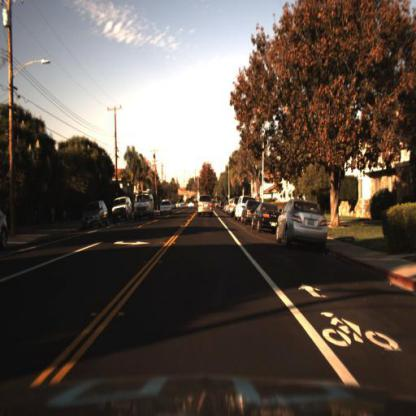car: (277, 198, 331, 258), (77, 199, 111, 233), (78, 201, 110, 236), (250, 198, 277, 238), (252, 201, 282, 232), (111, 194, 133, 230), (133, 189, 156, 223), (195, 190, 214, 221), (159, 197, 173, 219), (241, 199, 251, 225), (235, 199, 244, 222)
